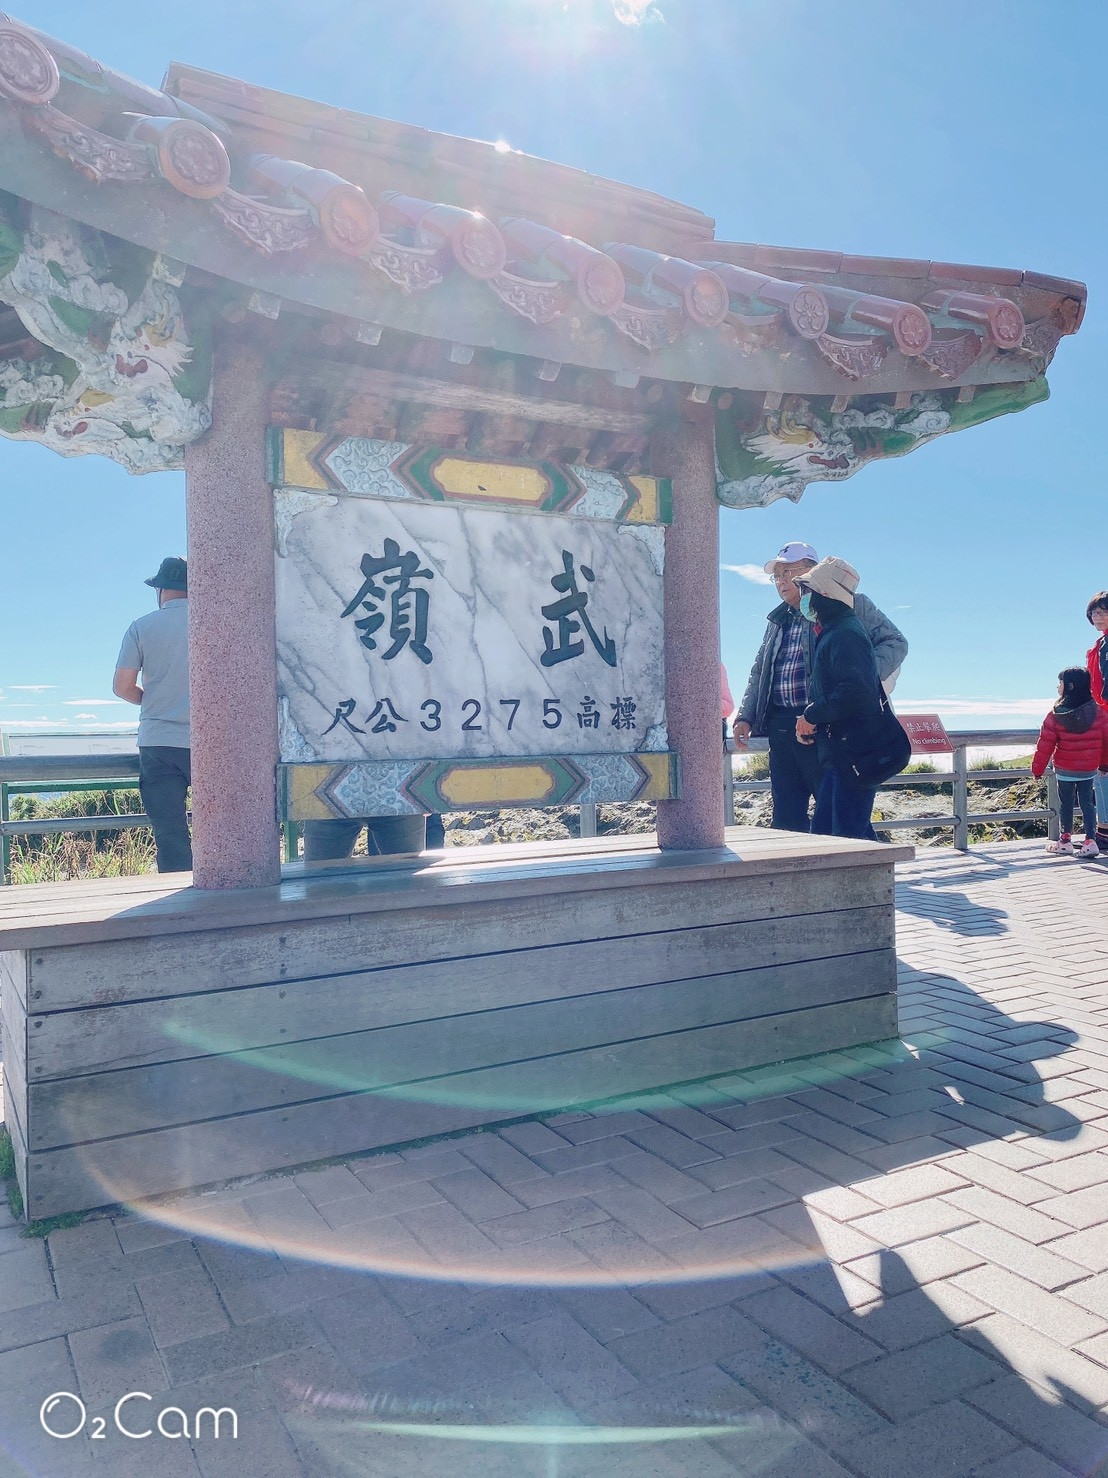people: (745, 545, 857, 804), (797, 557, 893, 833), (128, 557, 197, 876), (1043, 669, 1097, 847), (1081, 590, 1108, 812)
